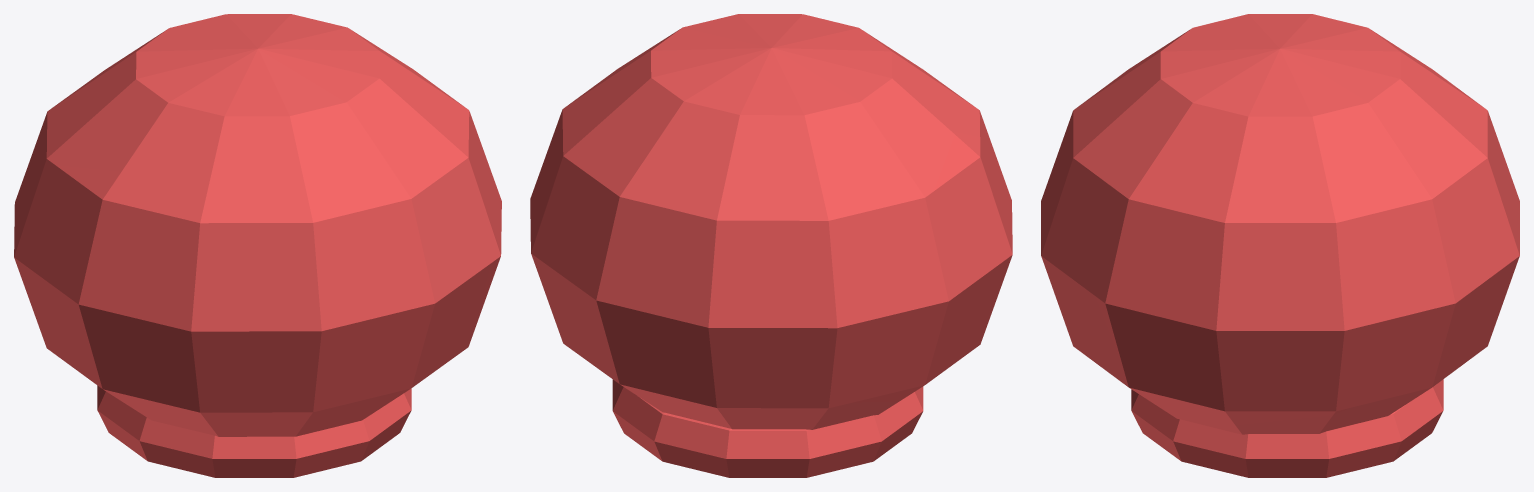
File: escafandra.gltf
3 views of the same model, side by side, from view 1: azimuth 30°, elevation 25°; view 2: azimuth 150°, elevation 25°; view 3: azimuth 270°, elevation 25° (orthographic).
Visible parts, largest first — view 1: sphere, torus; view 2: sphere, torus; view 3: sphere, torus.
Part boxes in pixels (x1,y1,x2,y2): sphere: [14, 14, 501, 436]; torus: [97, 385, 411, 477]; sphere: [530, 14, 1012, 429]; torus: [612, 379, 923, 477]; sphere: [1041, 14, 1519, 434]; torus: [1131, 379, 1443, 477].
Size of the model in its own units: 0.875 by 0.7513 by 0.8625.
3 materials, 1 textured.
